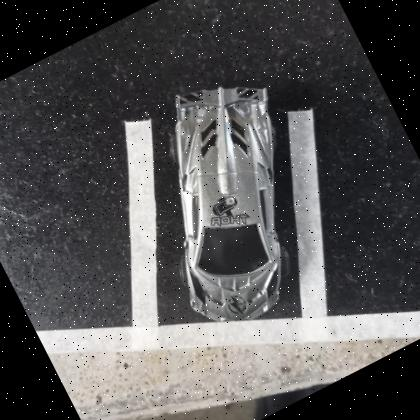Car: (173, 84, 282, 321)
